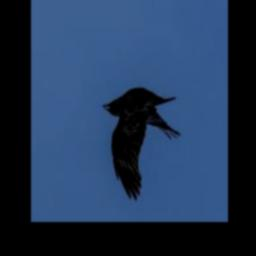Crow: (102, 89, 180, 201)
